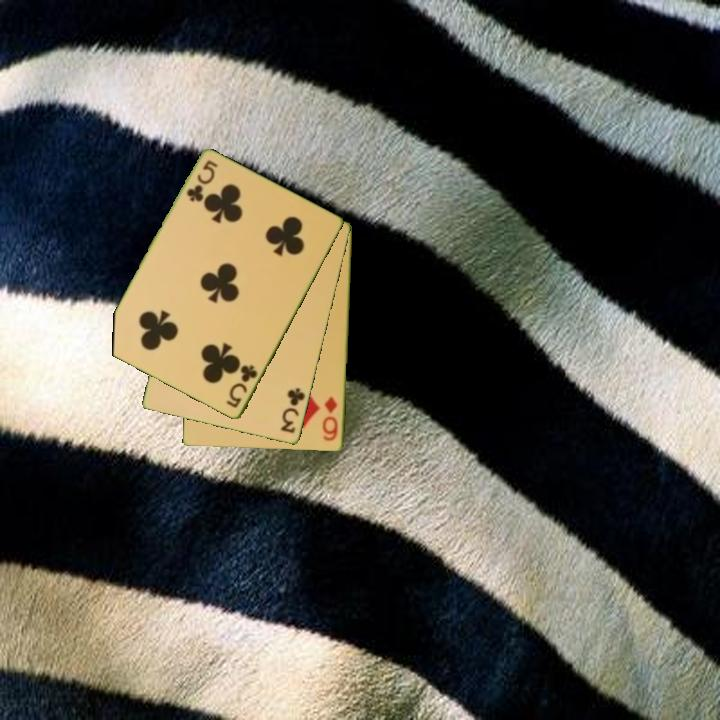3c: (277, 384, 308, 436)
5c: (223, 362, 261, 411), (183, 157, 221, 205)
6d: (319, 393, 341, 444)
